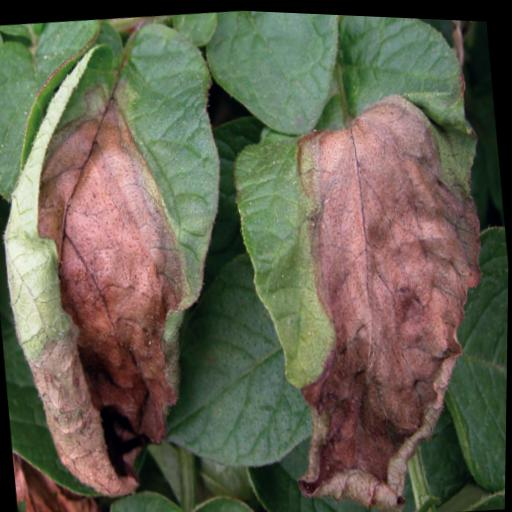Late Blight: (210, 8, 512, 512), (0, 5, 256, 512)
